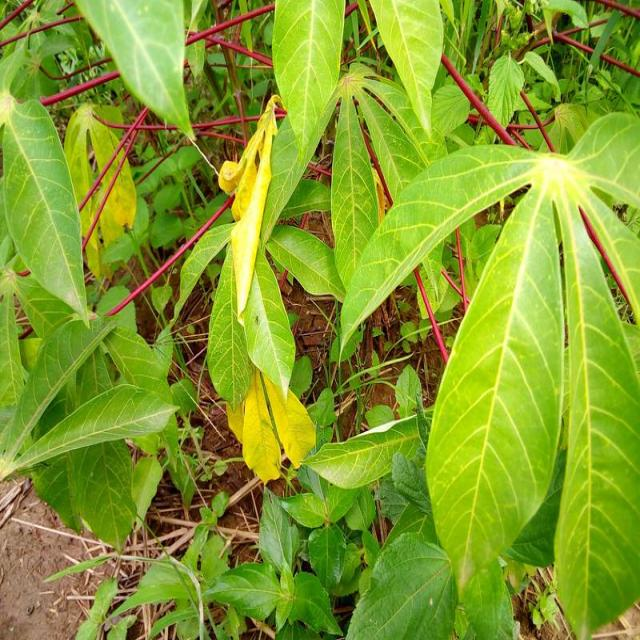cassava leaf: (336, 111, 638, 636), (423, 178, 565, 607), (0, 94, 90, 327), (74, 0, 195, 142)
